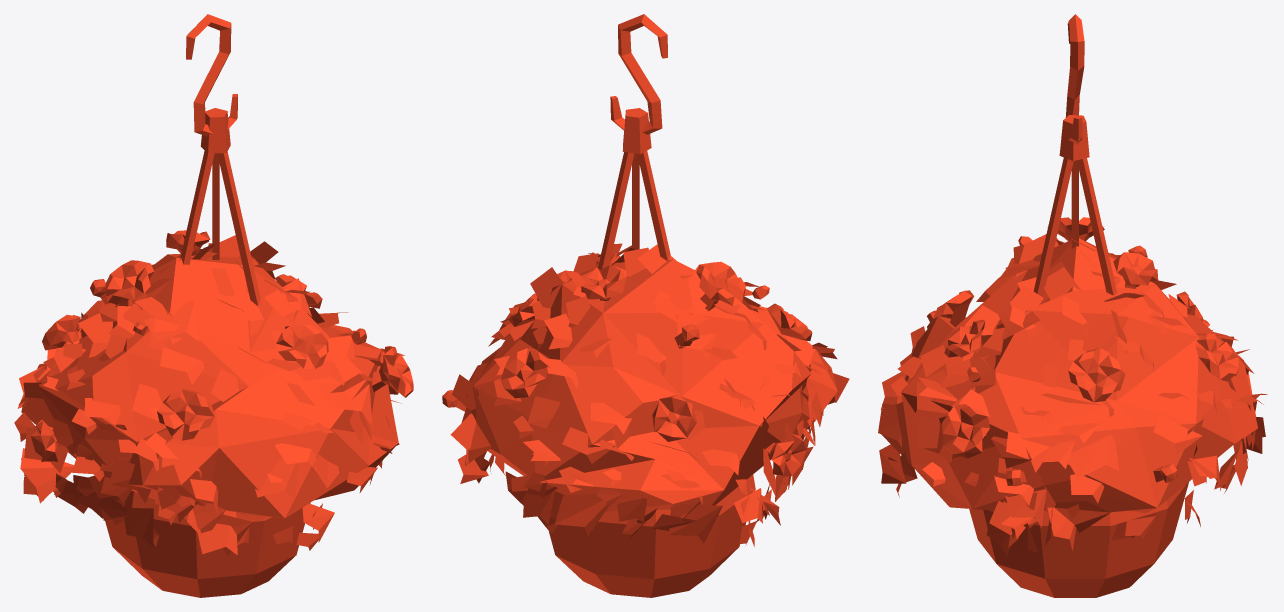
The model's file is SM_Flowerpot_Hanging_B.fbx.
3 views of the same model, side by side, from view 1: azimuth 30°, elevation 25°; view 2: azimuth 150°, elevation 25°; view 3: azimuth 270°, elevation 25° (orthographic).
Visible parts, largest first — view 1: SM_Flowerpot_Hanging_B; view 2: SM_Flowerpot_Hanging_B; view 3: SM_Flowerpot_Hanging_B.
Part boxes in pixels (x1=…): SM_Flowerpot_Hanging_B: x1=14, y1=14, x2=413, y2=597; SM_Flowerpot_Hanging_B: x1=442, y1=14, x2=849, y2=597; SM_Flowerpot_Hanging_B: x1=878, y1=14, x2=1267, y2=597.
Size of the model in its own units: 0.7628 by 1.23 by 0.7822.
